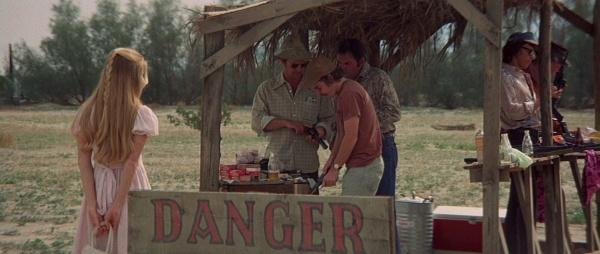Gun: (307, 124, 329, 152)
